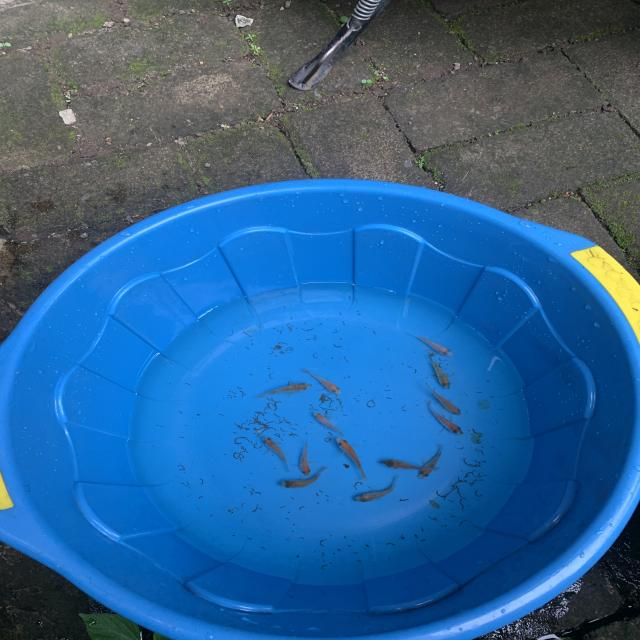nila: (421, 393, 467, 436), (418, 375, 464, 418), (346, 475, 405, 505), (272, 464, 336, 490), (333, 436, 369, 479), (256, 433, 292, 476), (253, 378, 314, 402), (414, 440, 449, 481), (423, 351, 458, 391), (409, 331, 455, 360), (301, 365, 344, 396), (308, 408, 351, 438), (380, 454, 445, 472), (298, 437, 318, 481)
